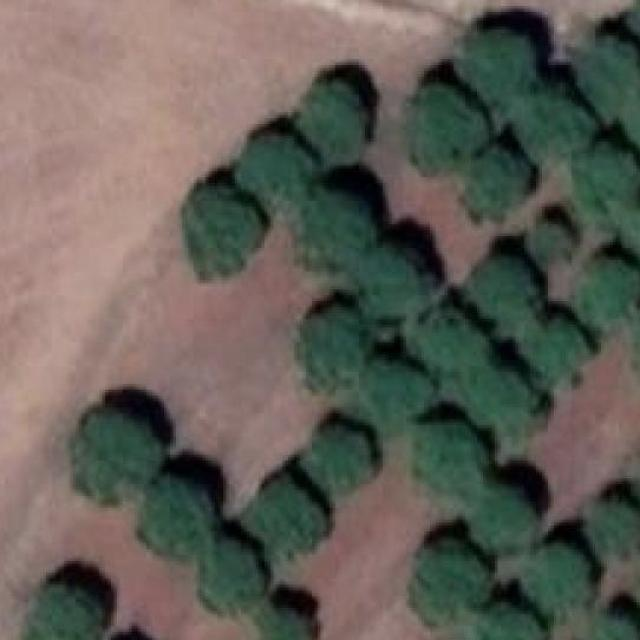Tree: (78, 411, 158, 494), (237, 134, 314, 216), (190, 183, 255, 266), (137, 475, 211, 543), (418, 543, 483, 620), (424, 419, 489, 494), (470, 27, 533, 102), (308, 86, 371, 161), (520, 92, 586, 163), (577, 254, 640, 328), (418, 85, 475, 165), (362, 248, 426, 319), (364, 354, 426, 425), (523, 315, 586, 384), (255, 484, 312, 559), (578, 145, 636, 216), (305, 428, 367, 494), (470, 482, 533, 546), (471, 260, 530, 328), (483, 368, 540, 437), (308, 309, 365, 378), (530, 546, 589, 612), (418, 313, 477, 378), (308, 198, 367, 261), (19, 590, 90, 640), (208, 540, 255, 612), (584, 39, 636, 104), (468, 148, 518, 212), (595, 499, 640, 546), (530, 218, 572, 266), (477, 606, 536, 640), (256, 611, 312, 640), (595, 617, 640, 640)
